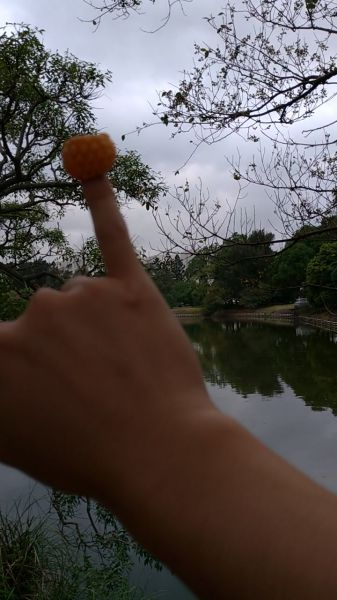eggs: (63, 134, 115, 179)
